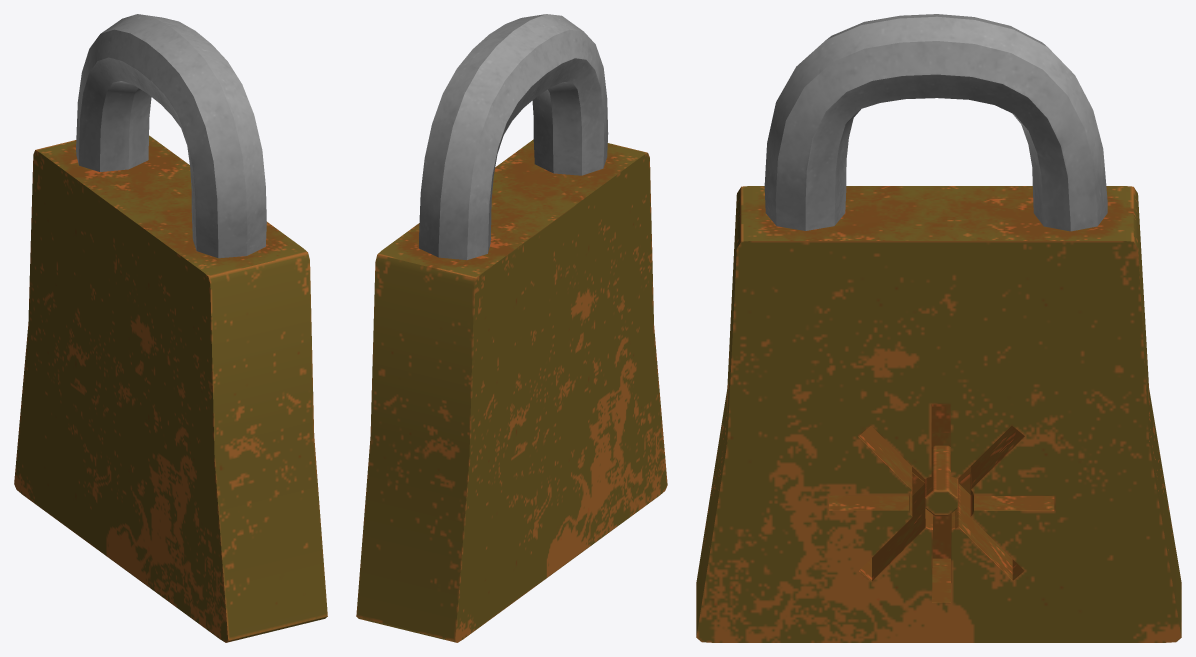
Rendered from Cadeado_4.fbx.
3 renders of one model, left to right at view 1: azimuth 30°, elevation 25°; view 2: azimuth 150°, elevation 25°; view 3: azimuth 270°, elevation 25°, orthographic. The views are drawn at different scales.
Parts seen in each view (by area): view 1: Cadeado_4, Cadeado_Ferro_4; view 2: Cadeado_4, Cadeado_Ferro_4; view 3: Cadeado_4, Cadeado_Ferro_4.
Part boxes in pixels (box(x1,y1,x2,y2)): Cadeado_4: box(14, 135, 327, 642); Cadeado_Ferro_4: box(76, 14, 266, 258); Cadeado_4: box(356, 139, 667, 642); Cadeado_Ferro_4: box(419, 14, 608, 260); Cadeado_4: box(696, 186, 1181, 642); Cadeado_Ferro_4: box(764, 14, 1107, 231).
Size of the model in its own units: 1.86 by 9.45 by 6.94.
